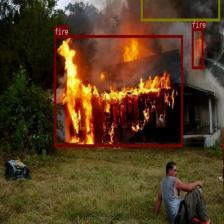fire: (54, 34, 183, 146), (191, 28, 203, 68)
smoke: (140, 0, 220, 21)
